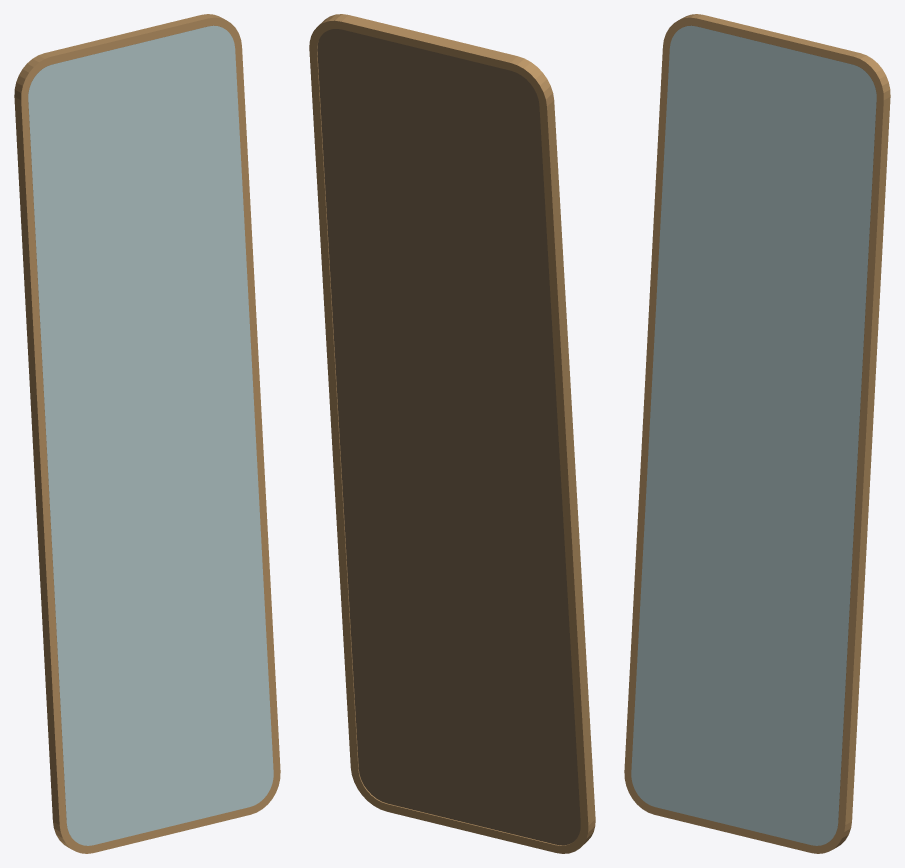
Rendered from ikornnes.glb.
3 views of the same model, side by side, from view 1: azimuth 30°, elevation 25°; view 2: azimuth 150°, elevation 25°; view 3: azimuth 330°, elevation 25° (orthographic). The views are drawn at different scales.
Parts seen in each view (by area): view 1: ikornnes; view 2: ikornnes; view 3: ikornnes.
Part boxes in pixels (box(x1,y1,x2,y2)): ikornnes: box(14, 14, 280, 853); ikornnes: box(309, 14, 595, 853); ikornnes: box(624, 14, 890, 853).
Bounding box in the file's own units: 0.52 × 1.72 × 0.2.
